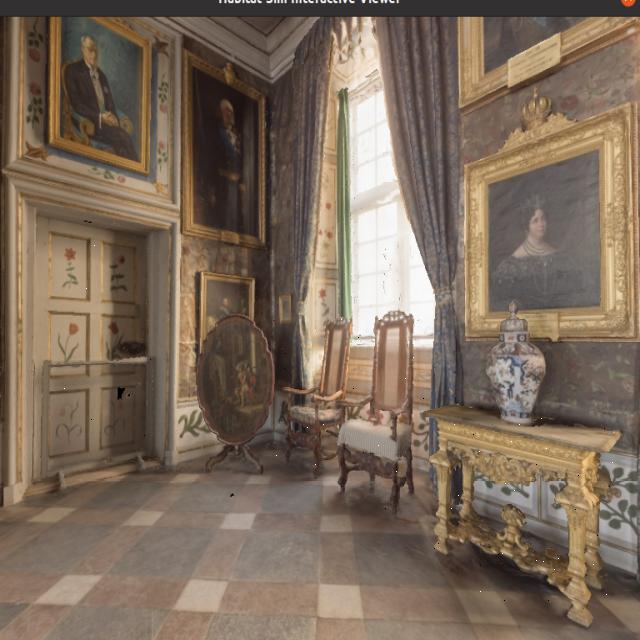chair: (321, 310, 440, 513), (276, 329, 354, 475)
door: (33, 214, 146, 465)
door-frame: (4, 170, 186, 520)
table: (433, 394, 615, 611)
